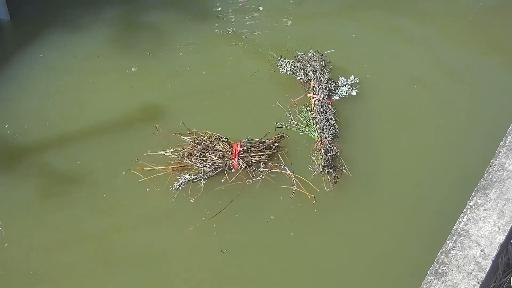twig: (115, 113, 315, 210), (268, 44, 359, 212)
